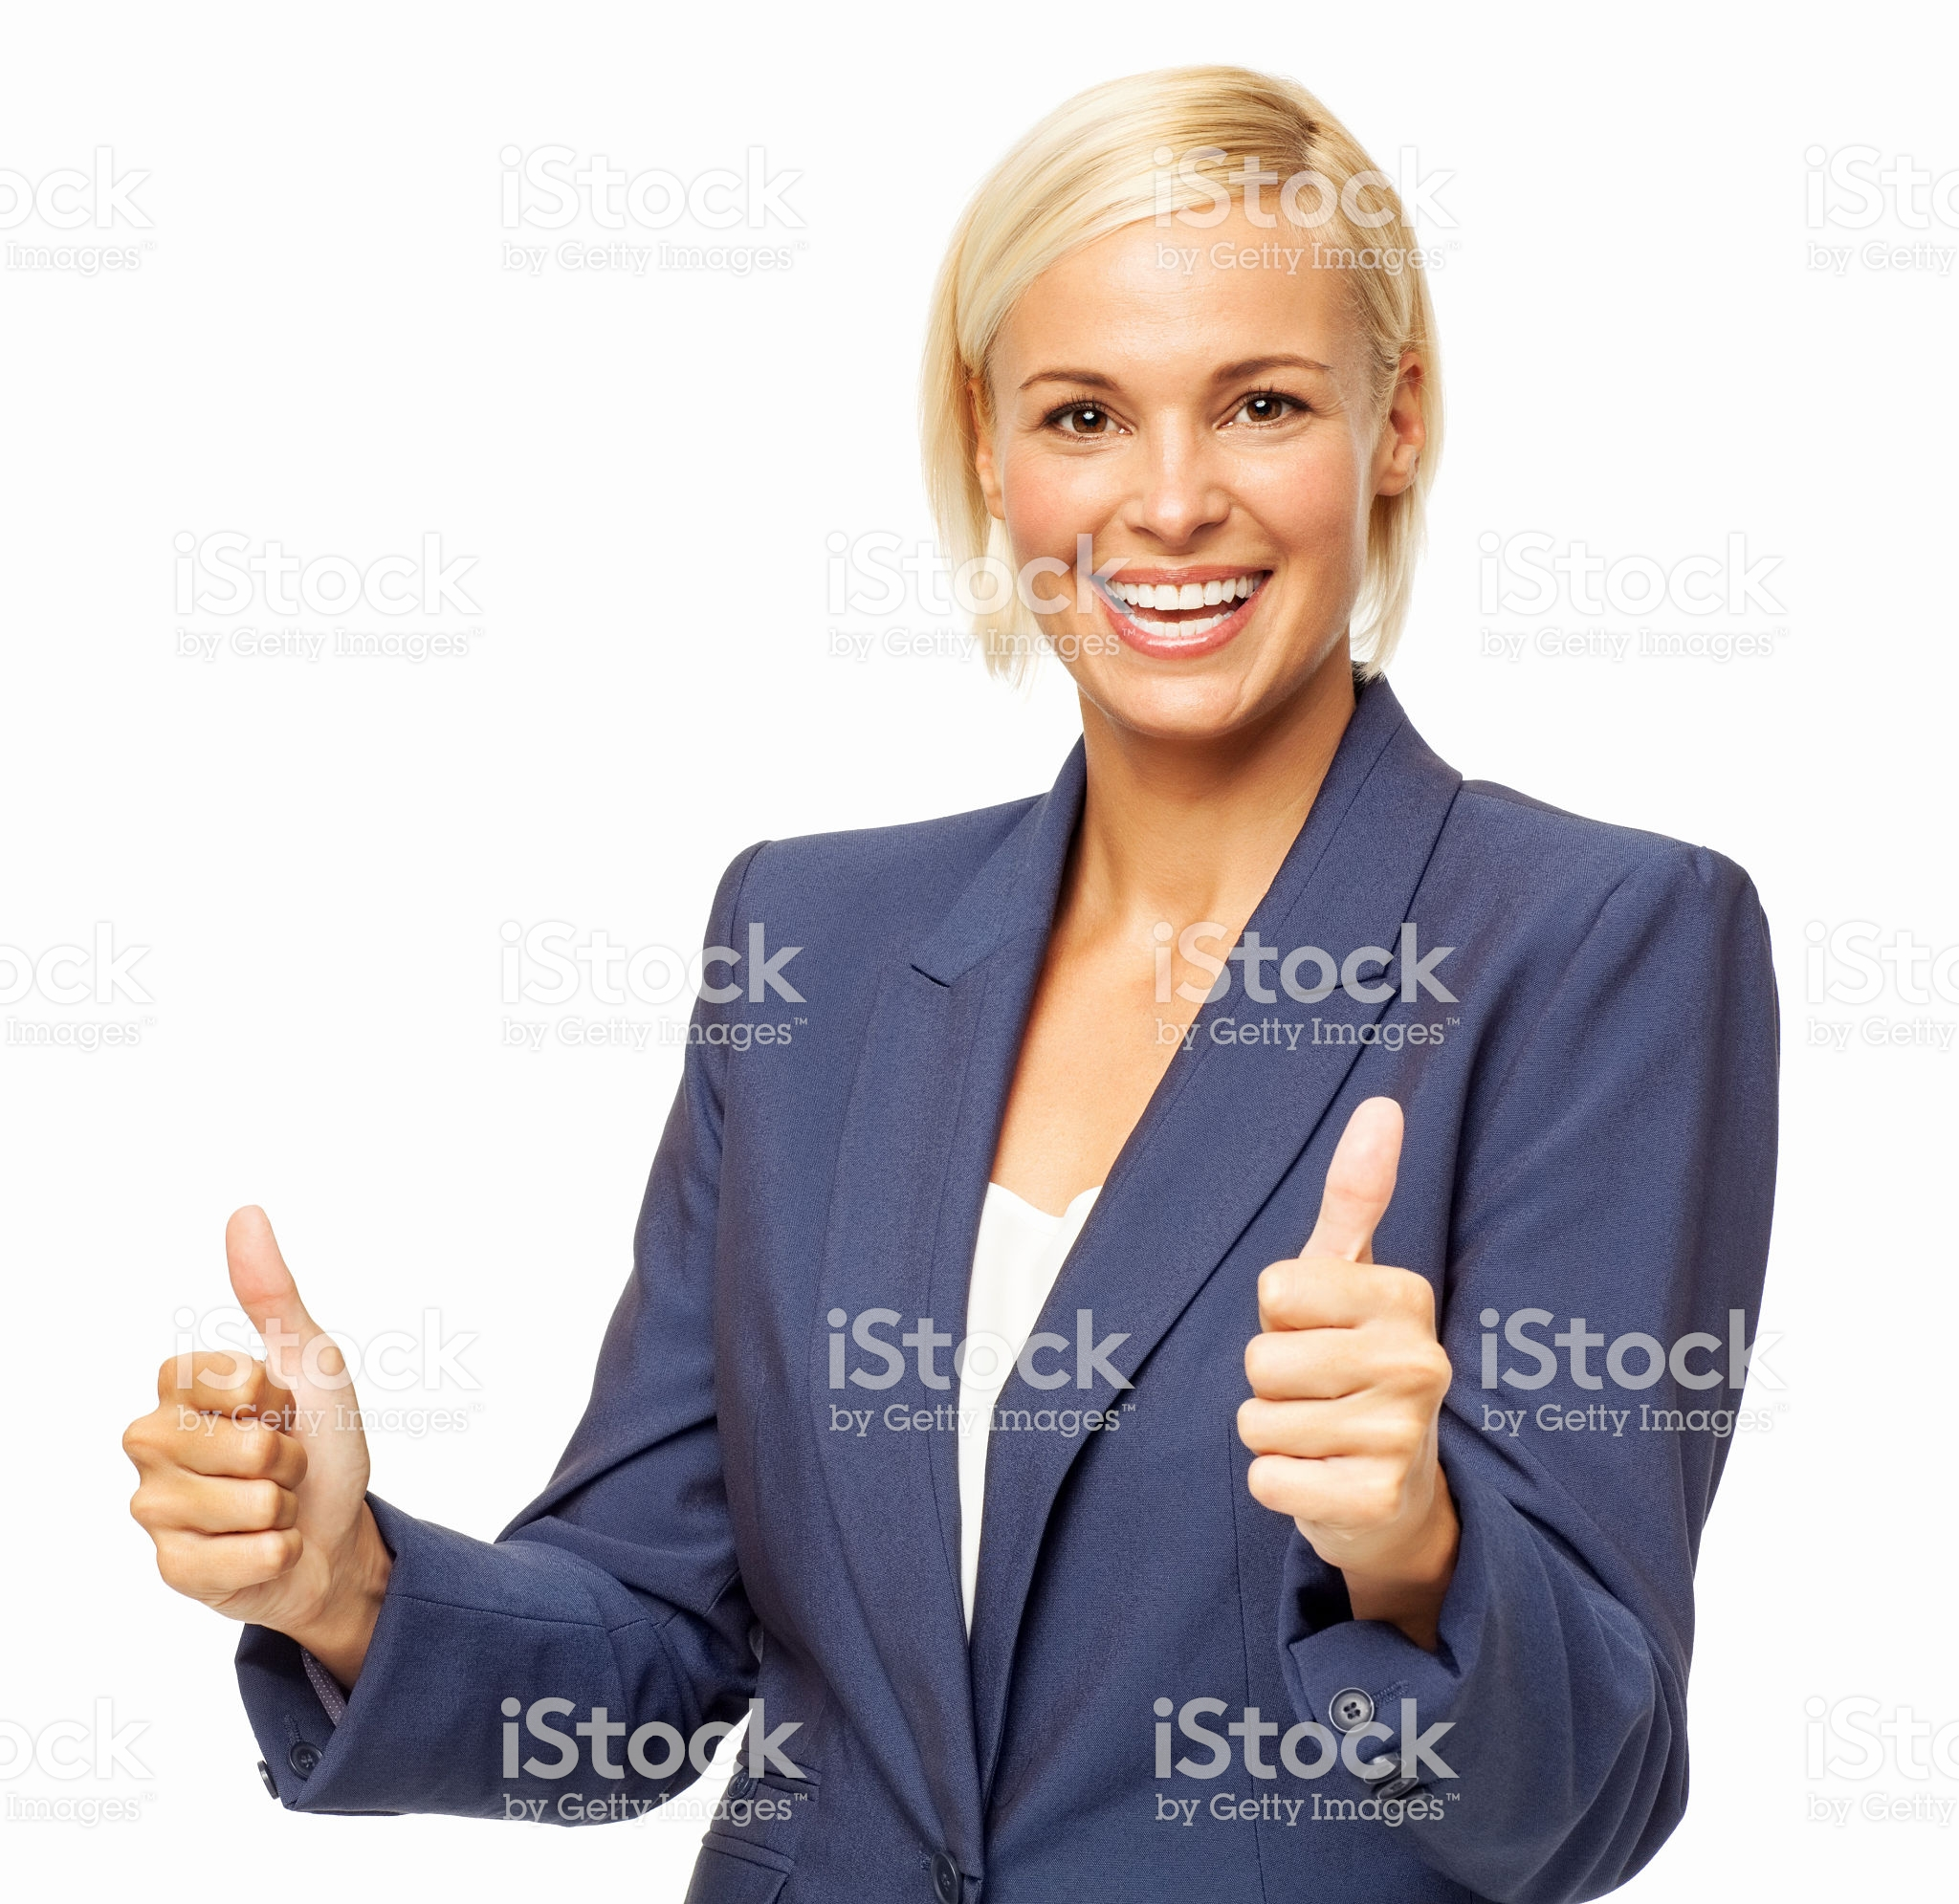thumbsup: (115, 1201, 378, 1635), (1235, 1091, 1455, 1549)
